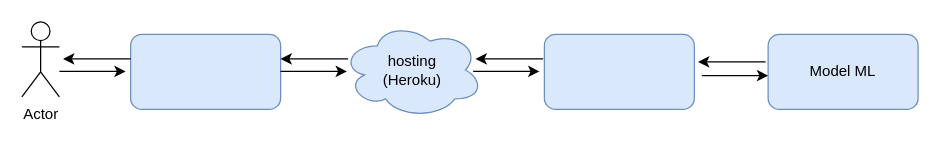
This 940x145 diagram has some shape labels left out. Each missing label, with the box of its shape:
API (Flask): (543, 33, 694, 109)
Aplikacja: (129, 33, 281, 109)
